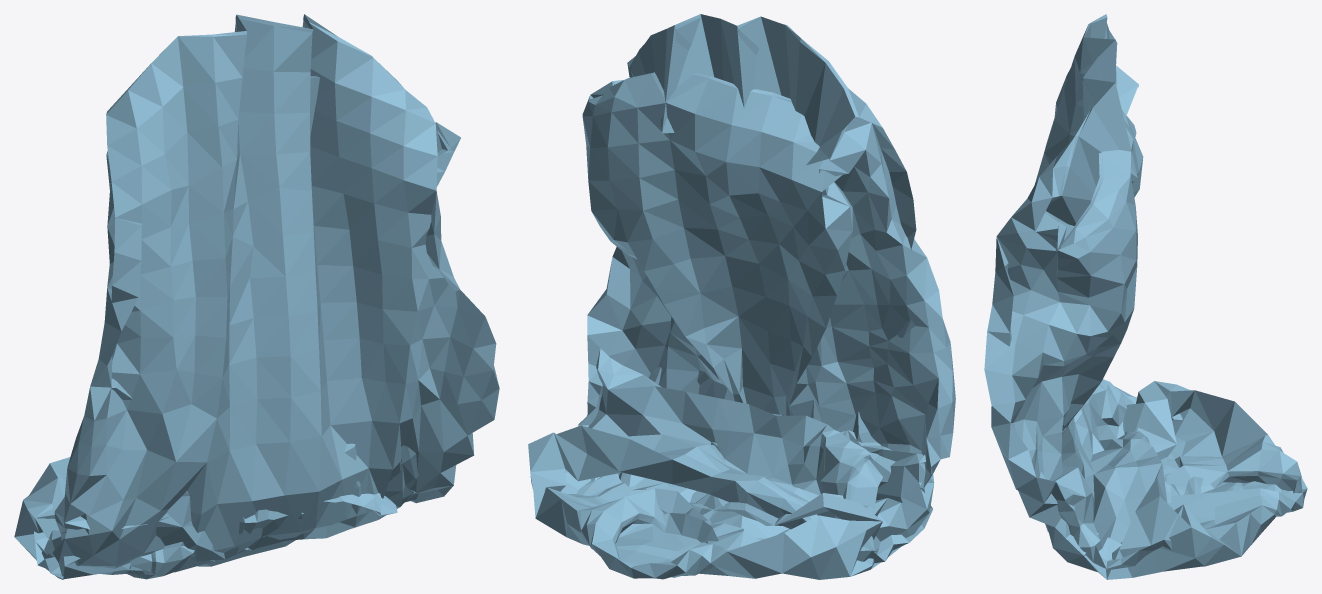
File: frame_13.glb
3 renders of one model, left to right at view 1: azimuth 30°, elevation 25°; view 2: azimuth 150°, elevation 25°; view 3: azimuth 270°, elevation 25°, orthographic. The views are drawn at different scales.
Parts seen in each view (by area): view 1: frame_13.obj; view 2: frame_13.obj; view 3: frame_13.obj.
Part boxes in pixels (bbox=[...]): frame_13.obj: bbox=[14, 14, 499, 579]; frame_13.obj: bbox=[528, 14, 955, 579]; frame_13.obj: bbox=[984, 14, 1307, 579].
Bounding box in the file's own units: 1.03 × 1.29 × 0.7992.
